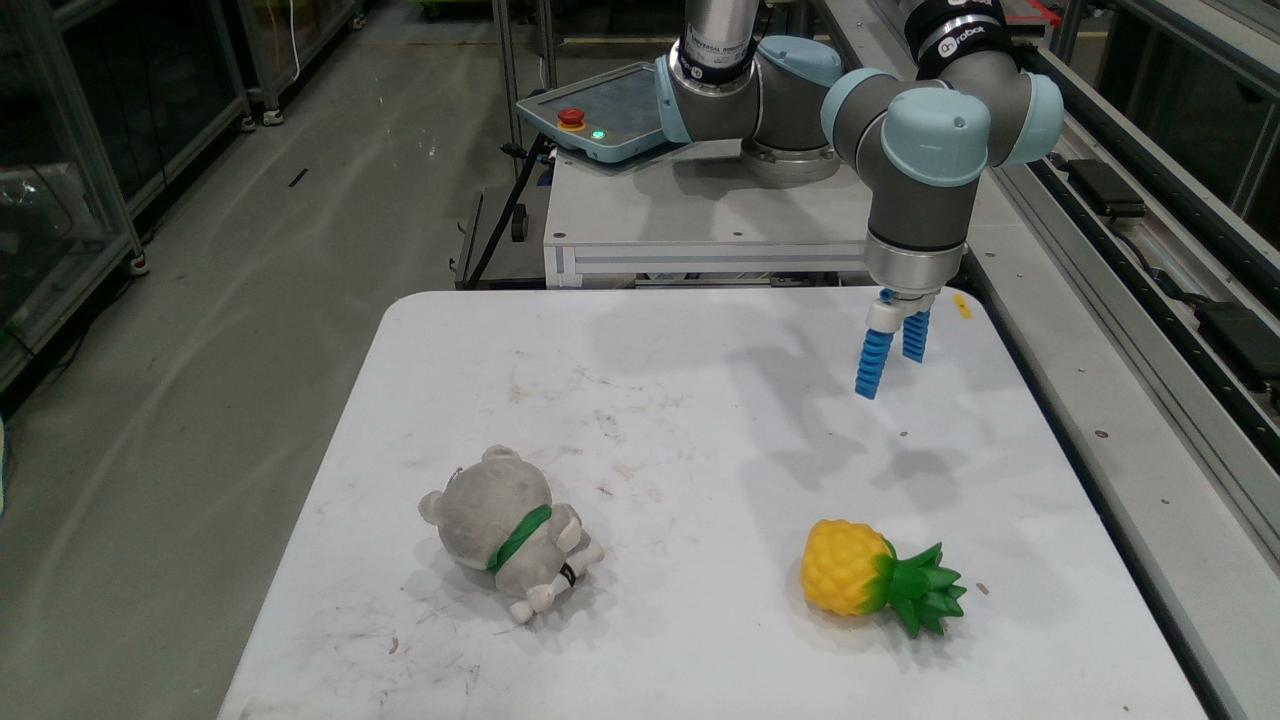UR5: (656, 0, 1060, 332)
gripper_left: (856, 331, 890, 396)
gripper_right: (904, 308, 926, 359)
target: (422, 446, 600, 619), (804, 520, 966, 634)
